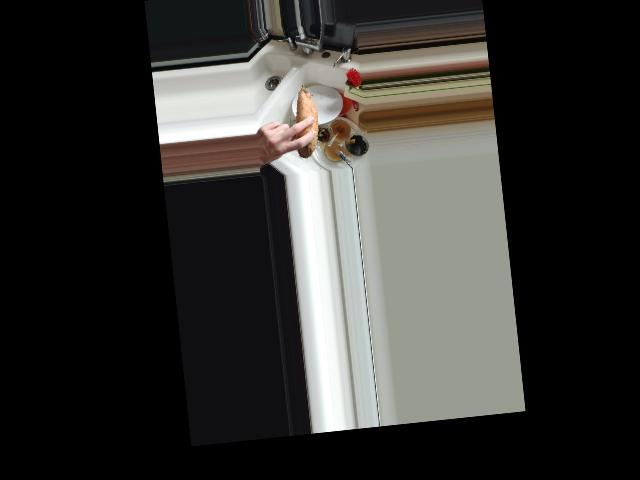sweet_potato: (286, 80, 321, 161)
